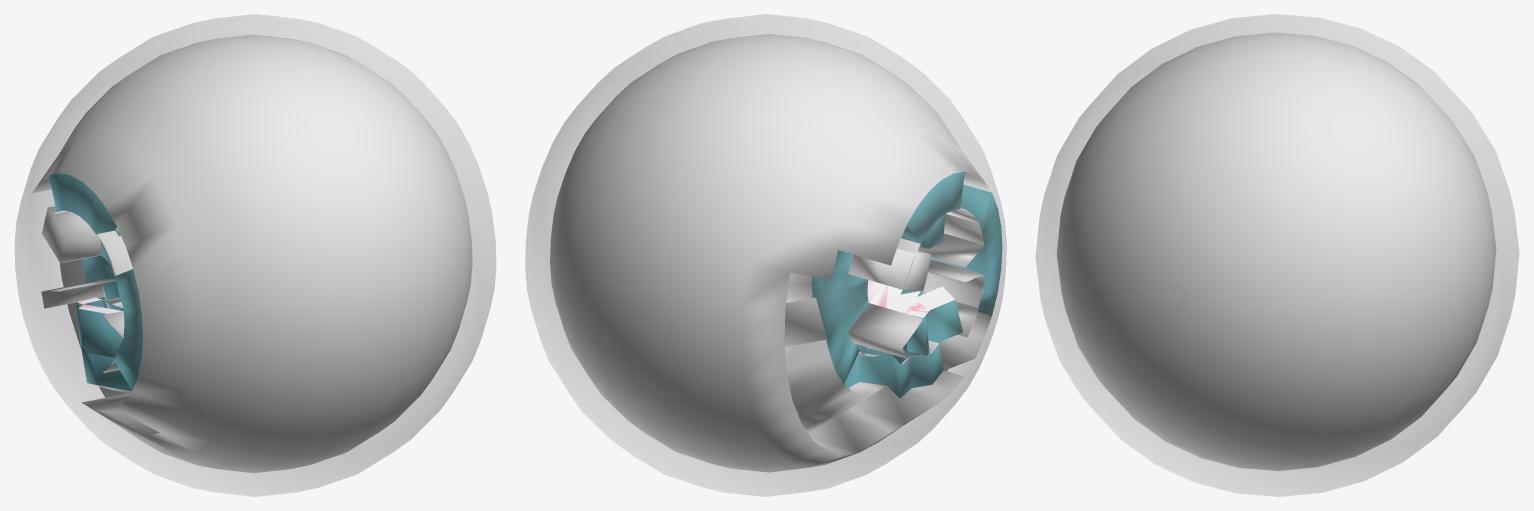
The model's file is ojo.gltf.
The picture shows the model from 3 angles, left to right: view 1: azimuth 30°, elevation 25°; view 2: azimuth 150°, elevation 25°; view 3: azimuth 270°, elevation 25°; orthographic projection.
Visible parts, largest first — view 1: Sphere; view 2: Sphere; view 3: Sphere.
Boxes of the visible parts, x1,y1,x2,y2 form: Sphere: (14,14,496,496); Sphere: (525,14,1006,496); Sphere: (1035,14,1519,496).
Bounding box in the file's own units: 2 × 2 × 2.
